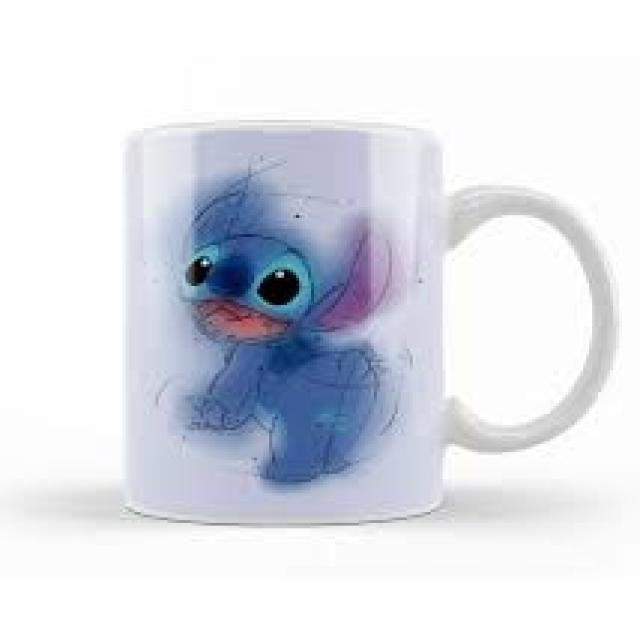taza: (119, 116, 622, 526)
